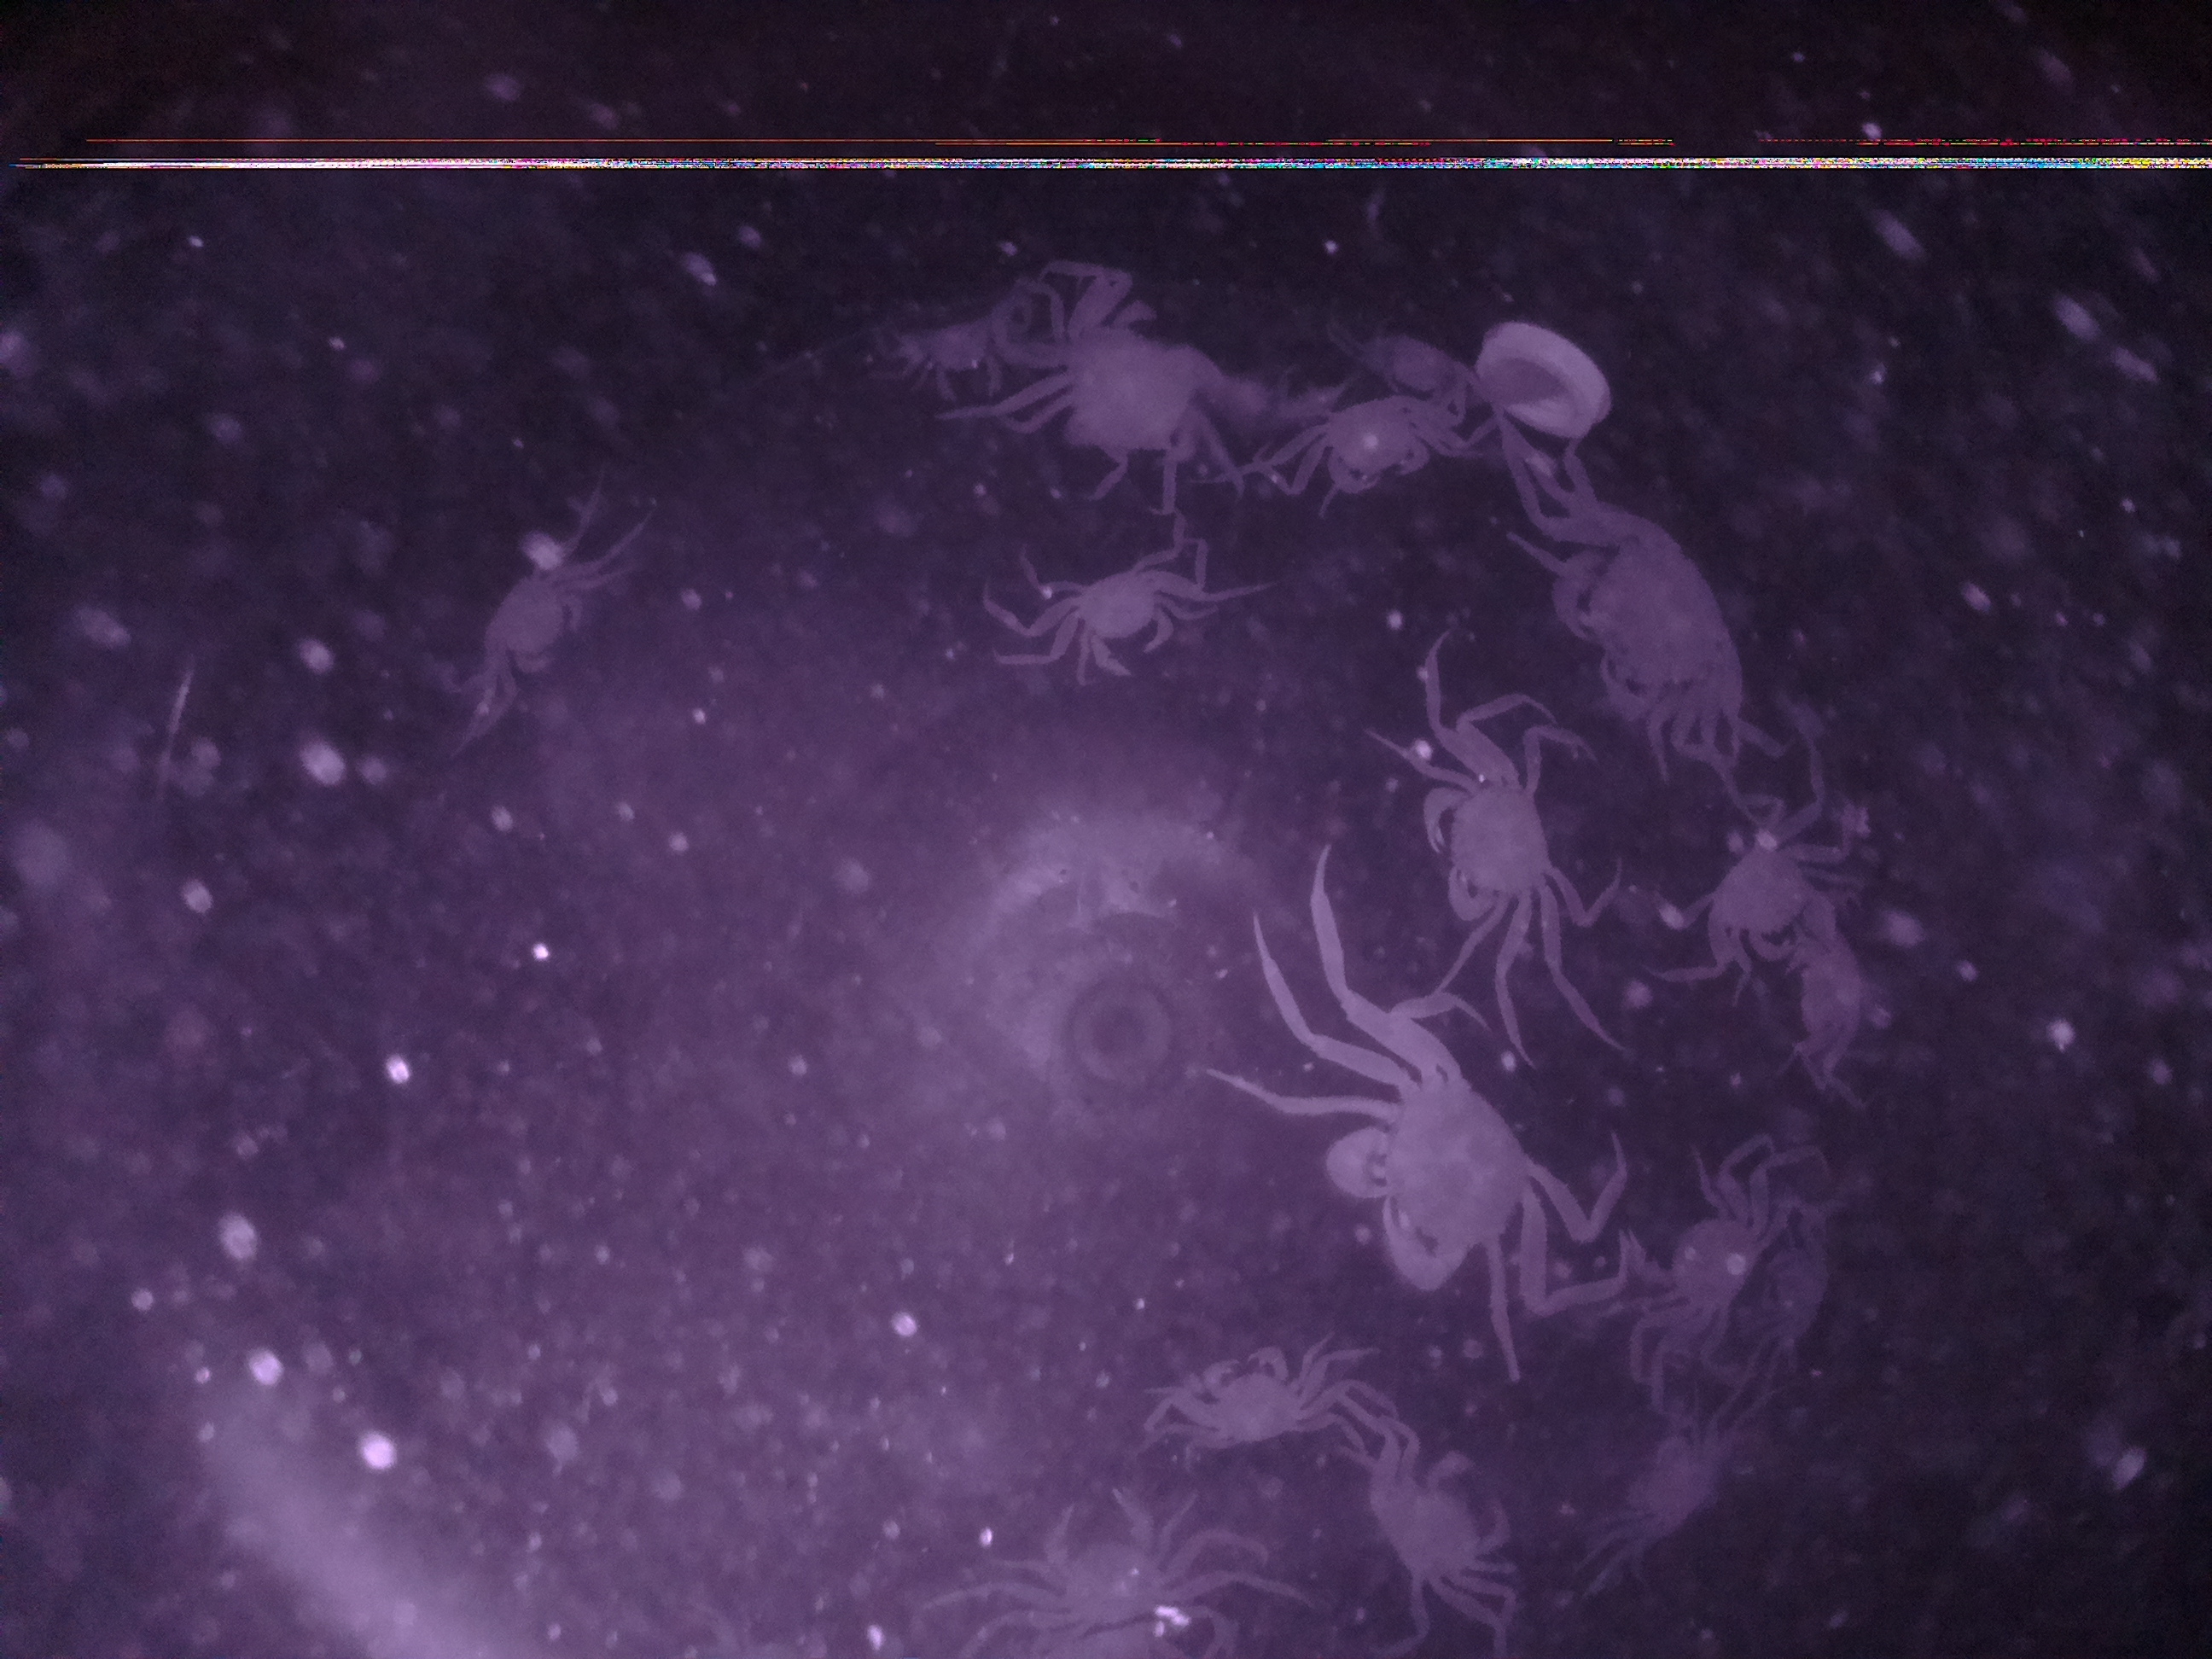Crab: (1500, 477, 1763, 751), (1318, 1042, 1559, 1312), (1406, 721, 1555, 948), (1627, 1145, 1785, 1354), (1672, 809, 1850, 986), (1008, 1483, 1183, 1659), (1366, 1432, 1524, 1619), (1029, 549, 1209, 685), (469, 537, 596, 721), (1162, 1333, 1322, 1471), (1284, 371, 1449, 500)
